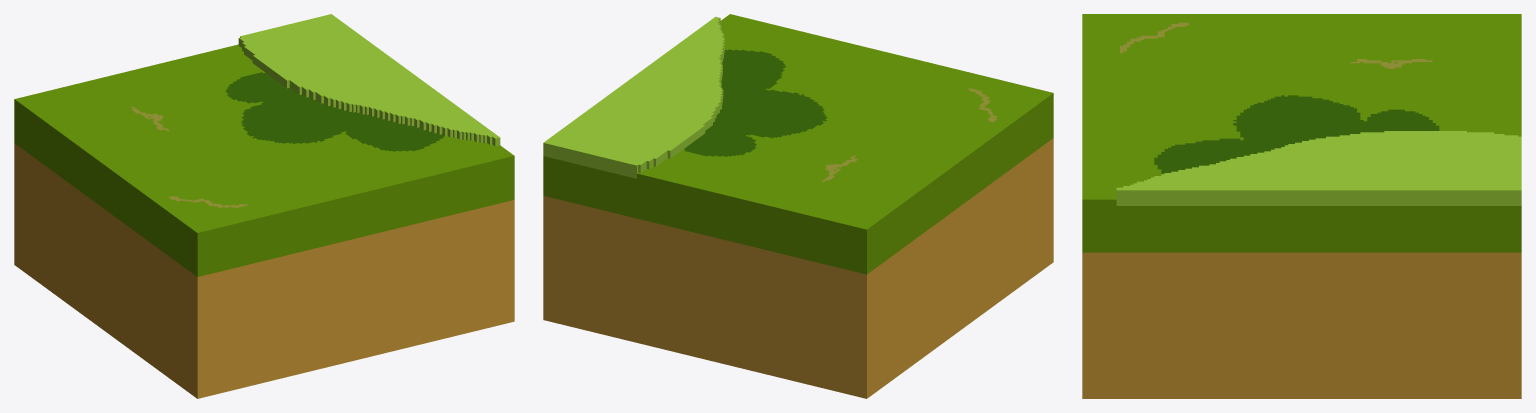
3 renders of one model, left to right at view 1: azimuth 30°, elevation 25°; view 2: azimuth 150°, elevation 25°; view 3: azimuth 270°, elevation 25°, orthographic. The views are drawn at different scales.
Visible parts, largest first — view 1: 14J; view 2: 14J; view 3: 14J.
Part boxes in pixels (x1,y1,x2,y2): 14J: [14, 14, 514, 398]; 14J: [543, 14, 1053, 398]; 14J: [1082, 14, 1521, 398].
Size of the model in its own units: 12.8 by 6.7 by 12.8.
Materials: 1 (1 with a texture image).
